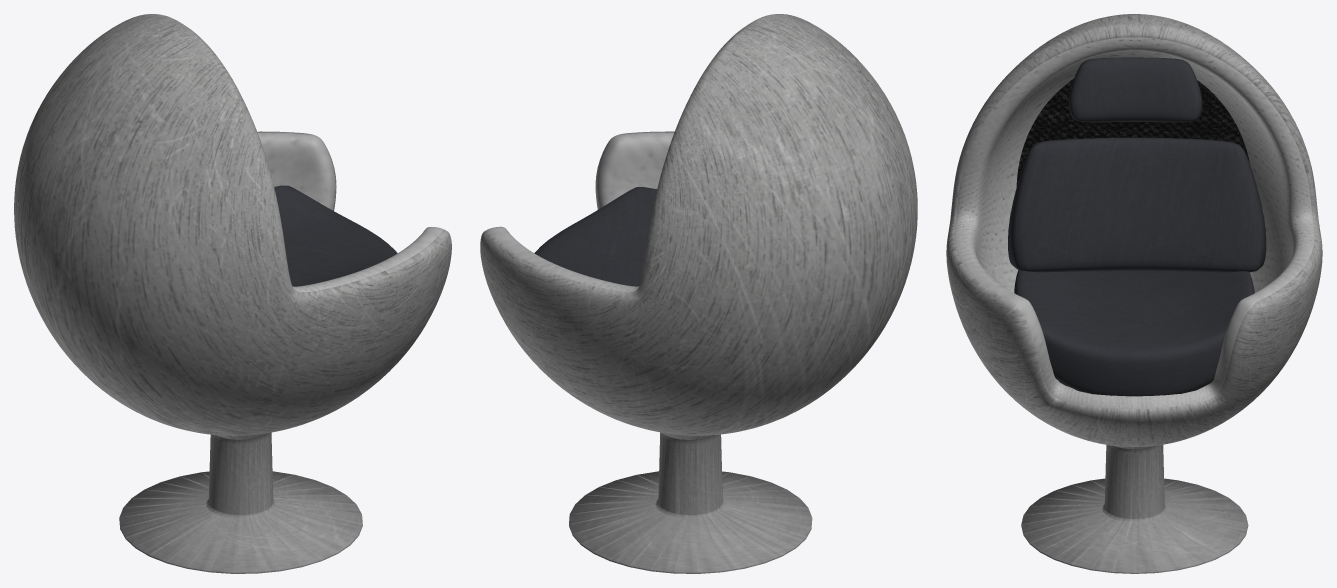
File: Room_12_test_chair.fbx
The picture shows the model from 3 angles, left to right: view 1: azimuth 30°, elevation 25°; view 2: azimuth 150°, elevation 25°; view 3: azimuth 270°, elevation 25°; orthographic projection. The views are drawn at different scales.
Visible parts, largest first — view 1: ChairCushion_Low, Chair Foot_Low; view 2: ChairCushion_Low, Chair Foot_Low; view 3: ChairCushion_Low, Chair Foot_Low.
Boxes of the visible parts, bbox=[...] form: ChairCushion_Low: bbox=[14, 14, 451, 435]; Chair Foot_Low: bbox=[119, 432, 362, 573]; ChairCushion_Low: bbox=[480, 14, 917, 435]; Chair Foot_Low: bbox=[569, 432, 812, 573]; ChairCushion_Low: bbox=[946, 14, 1322, 446]; Chair Foot_Low: bbox=[1021, 445, 1248, 573].
Size of the model in its own units: 108 by 148 by 106.
Materials: 1 (1 with a texture image).
